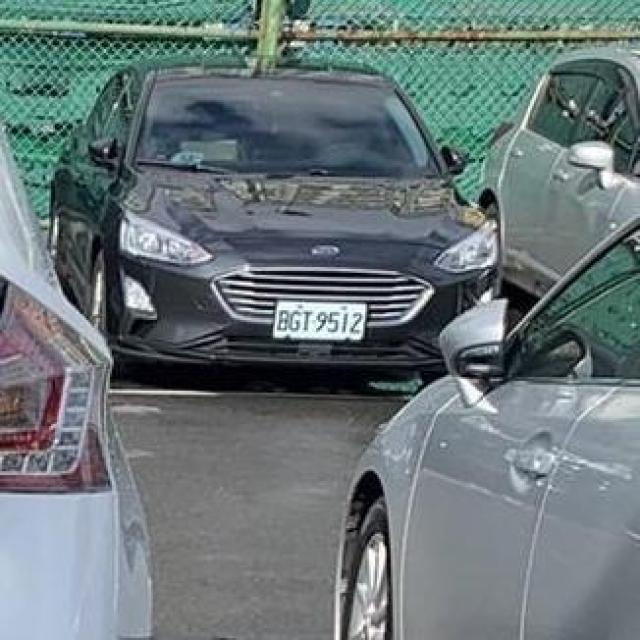W: (271, 301, 367, 344)
